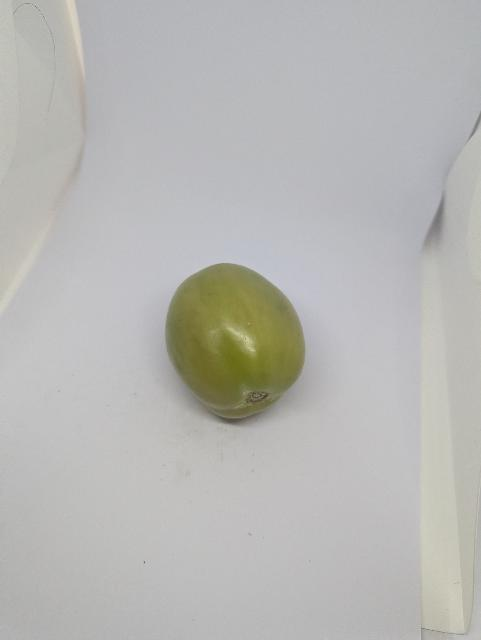green: (150, 238, 333, 438)
